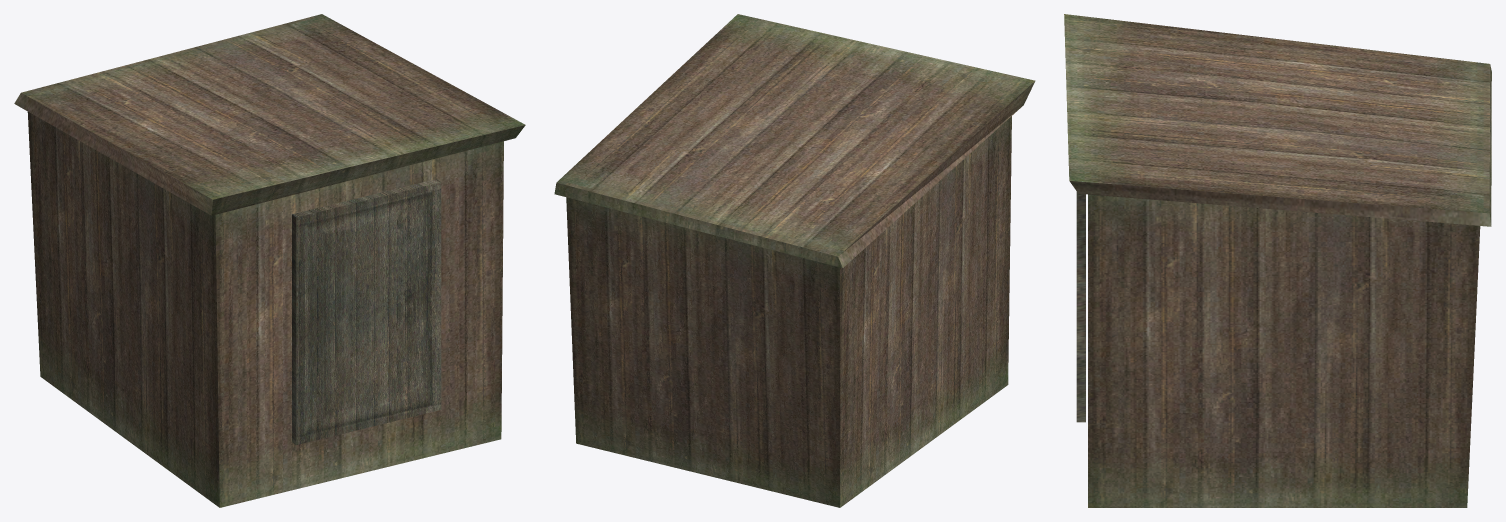
The model's file is Shed2.glb.
3 renders of one model, left to right at view 1: azimuth 30°, elevation 25°; view 2: azimuth 150°, elevation 25°; view 3: azimuth 270°, elevation 25°, orthographic. The views are drawn at different scales.
Parts seen in each view (by area): view 1: Shed2; view 2: Shed2; view 3: Shed2.
Part boxes in pixels (x1,y1,x2,y2): Shed2: (14, 14, 525, 507); Shed2: (554, 14, 1035, 507); Shed2: (1064, 14, 1491, 507).
Size of the model in its own units: 3.13 by 3.04 by 3.47.
2 materials, 2 textured.
